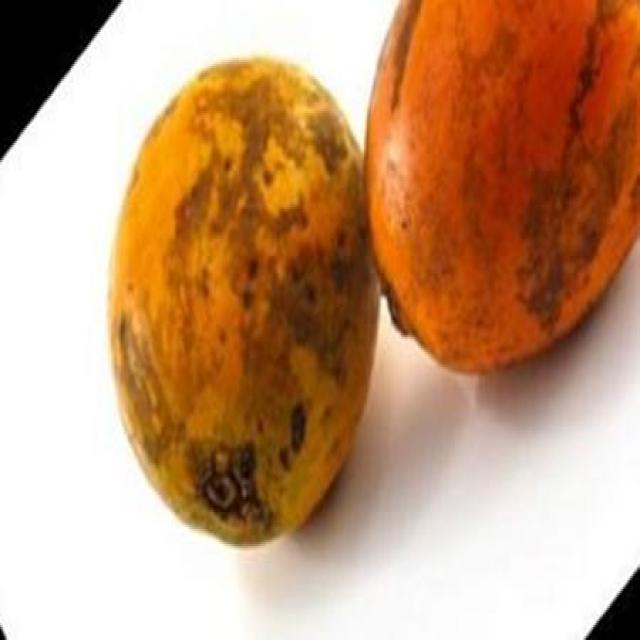good: (107, 58, 383, 553), (364, 0, 639, 378)
